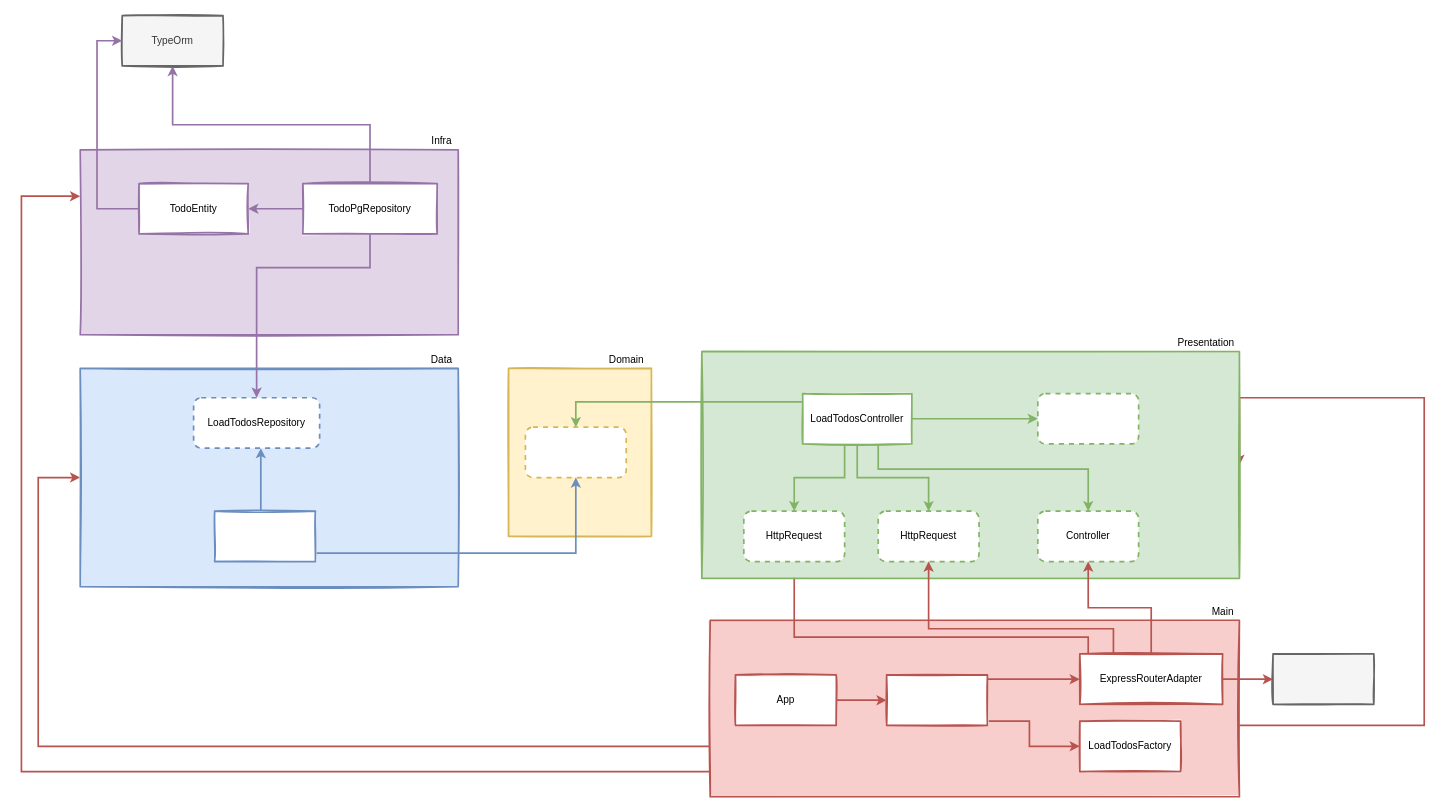
Some shapes in this 1446 by 811 pixel diagram are drawn without their labels. Here are the shapes that lost their labels. From the top down, the box of each, then its label:
(1037, 392, 1139, 444): Validation
(524, 426, 627, 478): LoadTodos
(213, 510, 316, 562): LoadTodosService
(1272, 653, 1374, 705): Express
(885, 674, 988, 726): LoadTodosRouter
